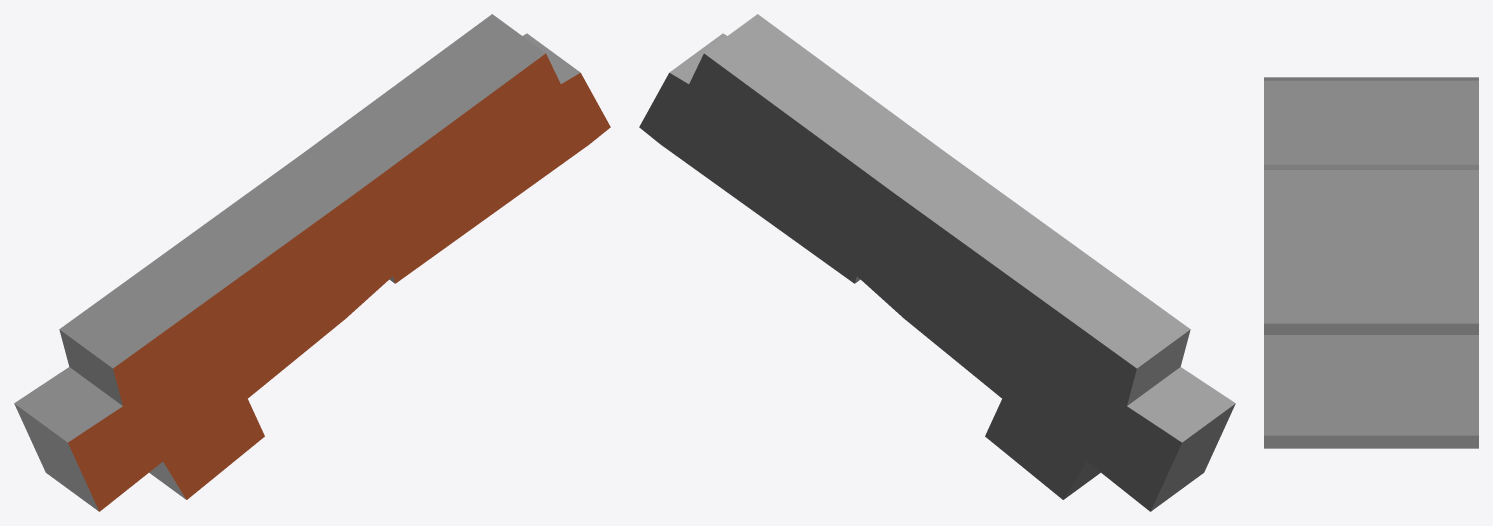
The model's file is construction_5991_assumed_A_Casa_h6m.obj.
3 renders of one model, left to right at view 1: azimuth 30°, elevation 25°; view 2: azimuth 150°, elevation 25°; view 3: azimuth 270°, elevation 25°, orthographic. The views are drawn at different scales.
Parts seen in each view (by area): view 1: construction_5991_assumed_A_Casa; view 2: construction_5991_assumed_A_Casa; view 3: construction_5991_assumed_A_Casa.
Part boxes in pixels (left/top/right/bottom): construction_5991_assumed_A_Casa: left=14, top=14, right=610, bottom=511; construction_5991_assumed_A_Casa: left=639, top=14, right=1235, bottom=511; construction_5991_assumed_A_Casa: left=1264, top=77, right=1478, bottom=448.
Bounding box in the file's own units: 35.01 × 22.14 × 6.
